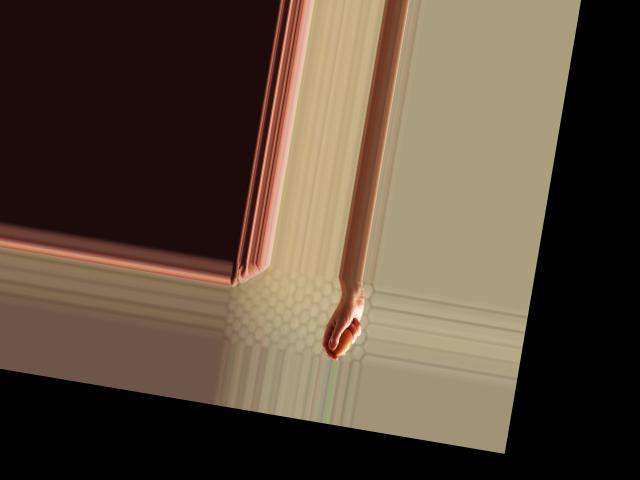egg: (329, 326, 355, 357)
